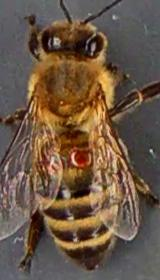varroa_mite: (63, 145, 98, 172)
